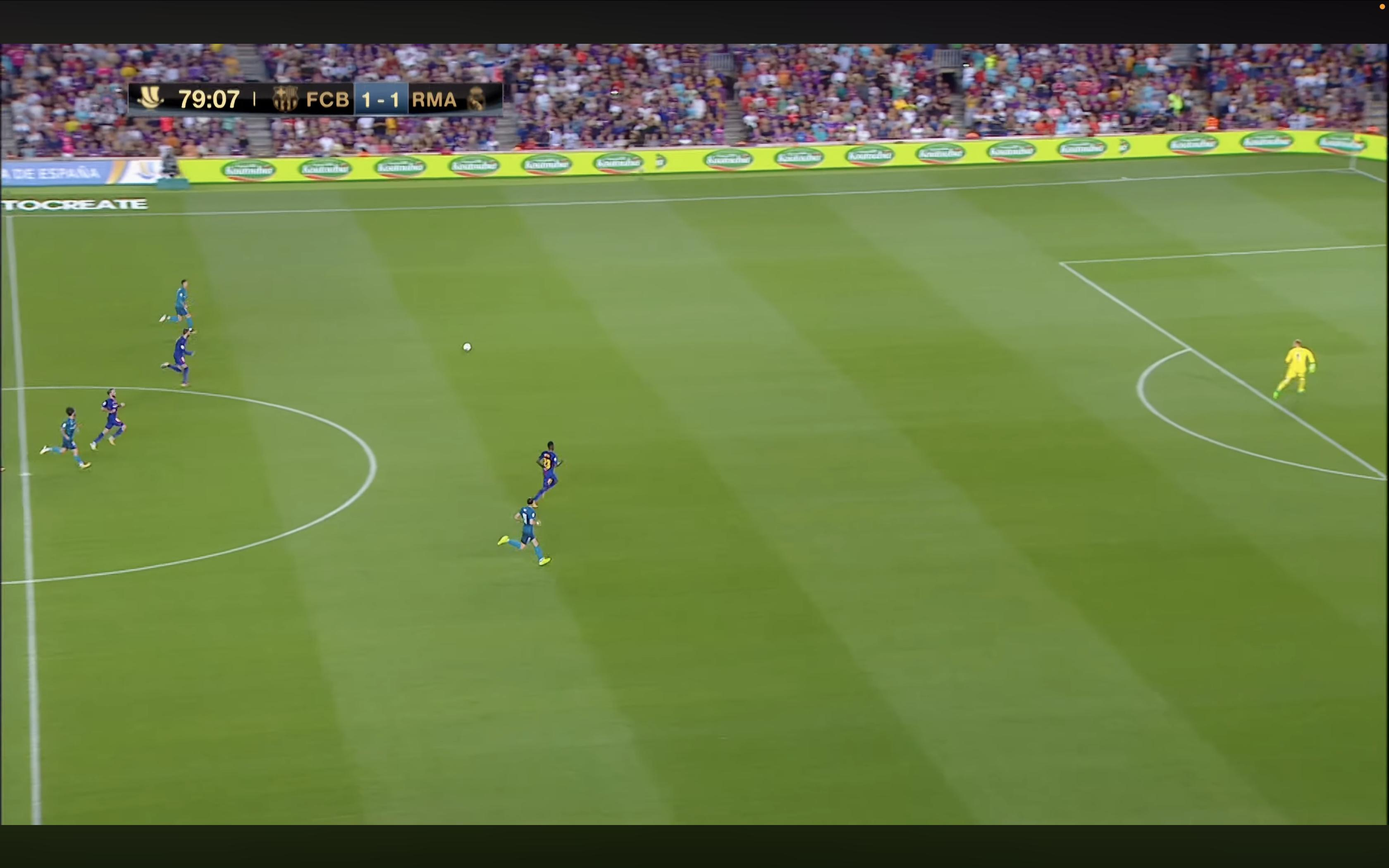ball: (463, 343, 472, 352)
goalkeeper: (1273, 340, 1315, 398)
player: (497, 498, 550, 565), (39, 407, 90, 468), (90, 389, 125, 451), (160, 328, 195, 386), (533, 441, 563, 501), (159, 279, 193, 327)
